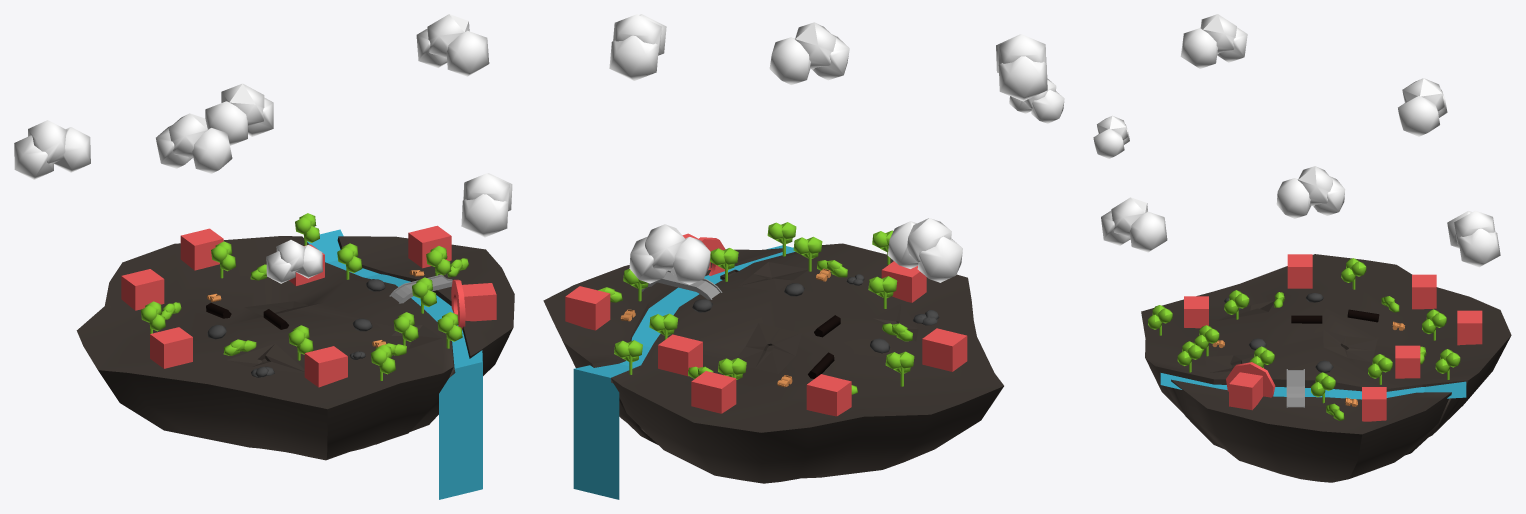
The model's file is Modelo Maqueta.FBX.
The picture shows the model from 3 angles, left to right: view 1: azimuth 30°, elevation 25°; view 2: azimuth 150°, elevation 25°; view 3: azimuth 270°, elevation 25°; orthographic projection. The views are drawn at different scales.
Parts seen in each view (by area): view 1: Terreno, Plane001, arbusto_011, arbusto_010, arbusto_007, arbusto_009, arbusto_008, arbusto_006, molino_casa, casa_003, casa_004, casa_002 (+7 smaller); view 2: Terreno, Plane001, arbusto_009, arbusto_008, arbusto_011, arbusto_010, arbusto_007, casa_006, casa_003, casa_004, casa_007, casa_005 (+3 smaller); view 3: Terreno, arbusto_010, arbusto_008, arbusto_007, arbusto_009, arbusto_011, molino_casa, Plane001, arbusto_006, casa_007, casa_003, casa_004 (+5 smaller).
Part boxes in pixels (left/top/right/bottom): Terreno: left=76, top=236, right=514, bottom=460; Plane001: left=307, top=229, right=482, bottom=499; arbusto_011: left=14, top=120, right=90, bottom=179; arbusto_010: left=416, top=14, right=489, bottom=76; arbusto_007: left=156, top=113, right=232, bottom=173; arbusto_009: left=205, top=83, right=273, bottom=145; arbusto_008: left=461, top=173, right=512, bottom=237; arbusto_006: left=266, top=240, right=322, bottom=283; molino_casa: left=451, top=279, right=496, bottom=329; casa_003: left=150, top=327, right=192, bottom=368; casa_004: left=121, top=269, right=164, bottom=310; casa_002: left=304, top=346, right=347, bottom=387; Terreno: left=543, top=243, right=1003, bottom=483; Plane001: left=573, top=245, right=794, bottom=499; arbusto_009: left=629, top=224, right=710, bottom=284; arbusto_008: left=769, top=22, right=849, bottom=84; arbusto_011: left=887, top=218, right=962, bottom=282; arbusto_010: left=609, top=14, right=666, bottom=80; arbusto_007: left=996, top=34, right=1047, bottom=101; casa_006: left=565, top=286, right=610, bottom=330; casa_003: left=922, top=328, right=967, bottom=371; casa_004: left=806, top=374, right=851, bottom=416; casa_007: left=691, top=371, right=736, bottom=413; casa_005: left=658, top=334, right=702, bottom=376; Terreno: left=1141, top=254, right=1511, bottom=482; arbusto_010: left=1276, top=166, right=1345, bottom=218; arbusto_008: left=1101, top=197, right=1167, bottom=252; arbusto_007: left=1180, top=14, right=1247, bottom=68; arbusto_009: left=1447, top=210, right=1500, bottom=267; arbusto_011: left=1398, top=78, right=1447, bottom=136; molino_casa: left=1226, top=362, right=1275, bottom=410; Plane001: left=1160, top=373, right=1466, bottom=399; arbusto_006: left=1093, top=115, right=1129, bottom=158; casa_007: left=1457, top=310, right=1482, bottom=345; casa_003: left=1287, top=254, right=1312, bottom=288; casa_004: left=1412, top=274, right=1436, bottom=309.
Size of the model in its own units: 3517 by 3231 by 3300.
